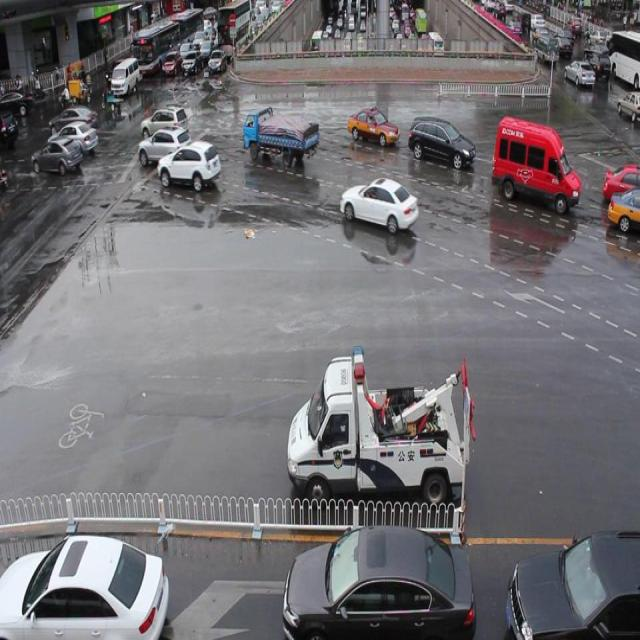bus: (287, 342, 475, 510), (245, 108, 318, 166)
car: (283, 527, 473, 640), (1, 532, 168, 640), (503, 528, 639, 640), (341, 179, 418, 230), (409, 114, 474, 168), (159, 141, 221, 188), (140, 127, 189, 168), (347, 105, 398, 144), (142, 106, 190, 146), (602, 159, 640, 200), (605, 186, 640, 230)
truck: (490, 113, 580, 212)
